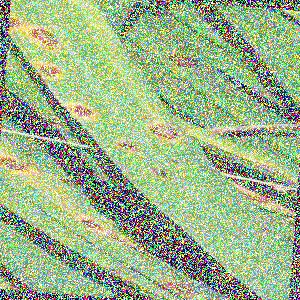Bacterial_Leaf_Blight: (25, 16, 65, 60), (29, 52, 69, 87), (158, 47, 209, 74), (59, 96, 105, 125), (0, 149, 43, 180), (140, 119, 187, 147), (155, 275, 206, 299), (107, 134, 147, 158), (9, 3, 27, 42), (75, 215, 107, 235), (148, 163, 175, 185), (255, 224, 274, 236), (105, 266, 123, 277), (168, 154, 184, 166)
